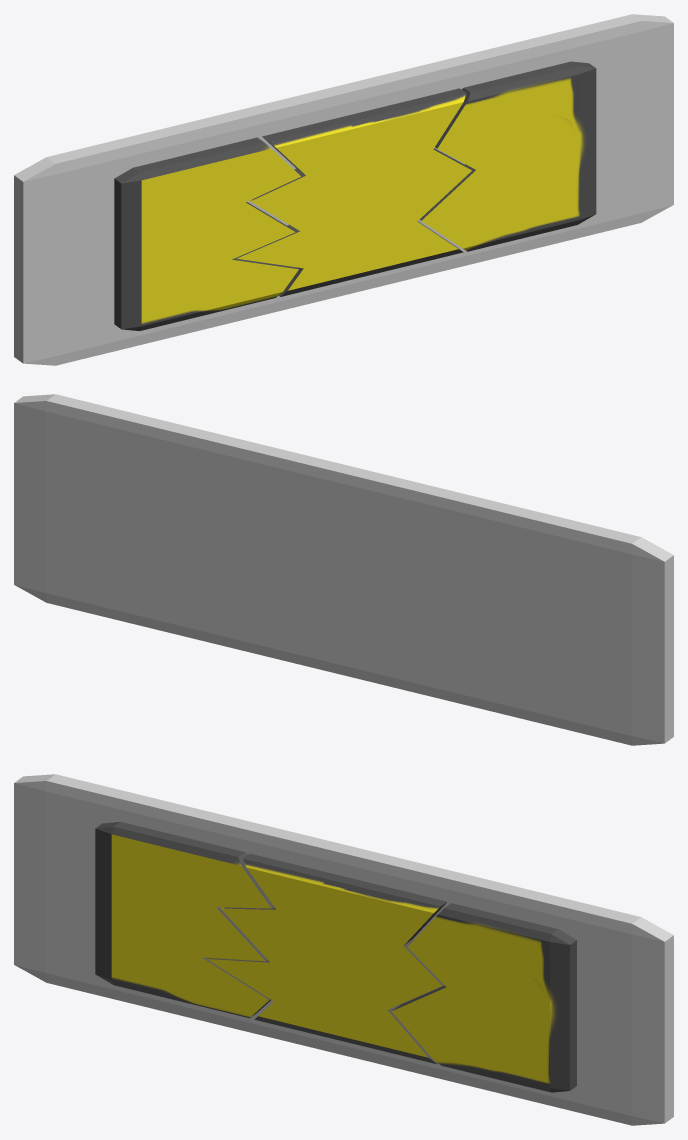
File: plate.fbx
The picture shows the model from 3 angles, top to bottom: view 1: azimuth 30°, elevation 25°; view 2: azimuth 150°, elevation 25°; view 3: azimuth 330°, elevation 25°; orthographic projection.
Parts seen in each view (by area): view 1: plate, 2.001, 1.001, 3.001; view 2: plate; view 3: plate, 2.001, 3.001, 1.001.
Boxes of the visible parts, x1,y1,x2,y2 form: plate: [14, 14, 673, 365]; 2.001: [236, 88, 471, 296]; 1.001: [114, 137, 300, 331]; 3.001: [419, 61, 596, 251]; plate: [14, 394, 673, 745]; plate: [14, 774, 673, 1125]; 2.001: [207, 853, 446, 1064]; 3.001: [392, 903, 576, 1092]; 1.001: [95, 821, 273, 1018].
Size of the model in its own units: 165 by 48.89 by 8.78.
